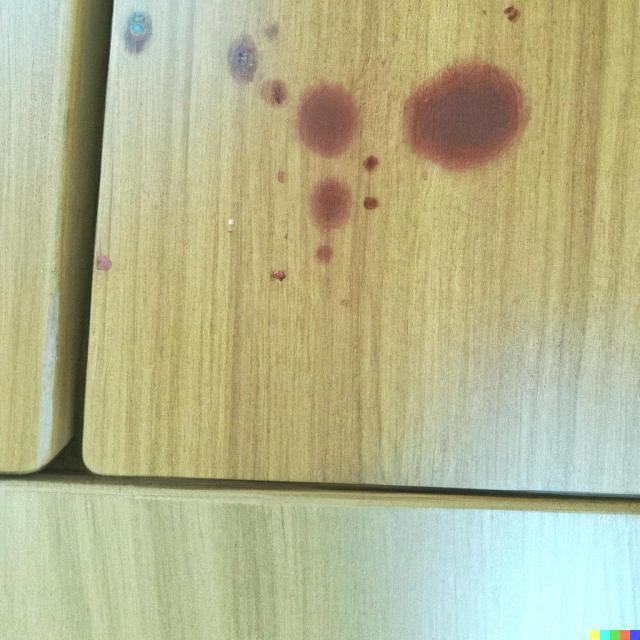flood: (199, 12, 565, 290)
